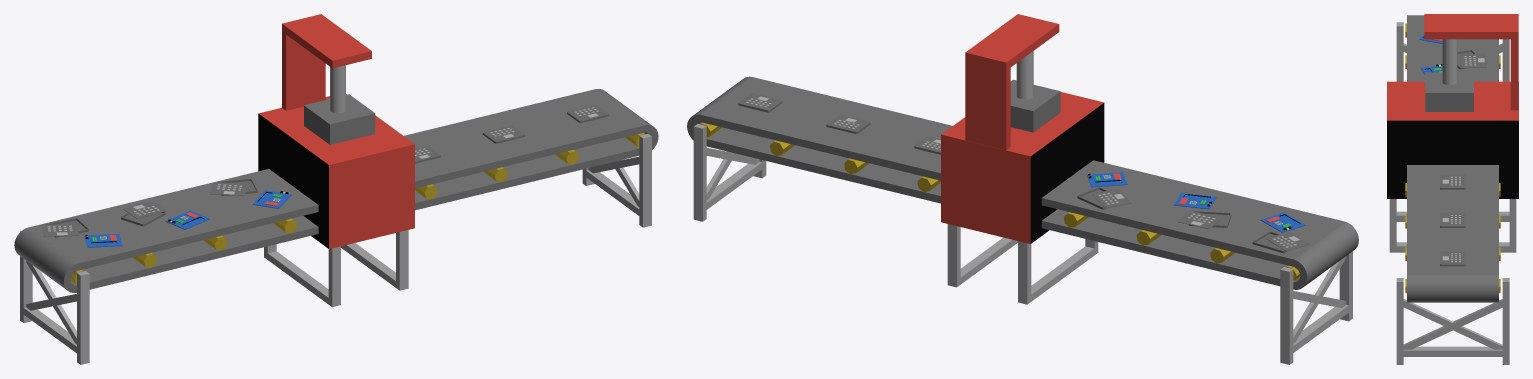
File: mechanic2.glb
3 renders of one model, left to right at view 1: azimuth 30°, elevation 25°; view 2: azimuth 150°, elevation 25°; view 3: azimuth 270°, elevation 25°, orthographic. The views are drawn at different scales.
Visible parts, largest first — view 1: belt_start, machine, Cube, machine.002, foot3, foot3.001, Cube.002, foot3.002, foot3.003, foot2.002, foot2.005, keyboard2 (+3 smaller); view 2: belt_start, machine, Cube, machine.002, foot3, foot3.001, Cube.002, foot3.002, foot2.006, foot3.003, foot2.003, keyboard1 (+5 smaller); view 3: belt_start, machine.001, foot3.001, machine, Cube, Cube.002, foot3, Cylindre, keyboard2, foot2.006, foot2.005, final_keyboard3 (+5 smaller).
Part boxes in pixels (x1,y1,x2,y2): belt_start: (14,89,658,292); machine: (258,94,414,249); Cube: (282,14,371,110); machine.002: (258,113,328,248); foot3: (20,231,89,364); foot3.001: (582,134,651,227); Cube.002: (304,94,375,144); foot3.002: (267,251,328,304); foot3.003: (341,243,395,287); foot2.002: (328,246,340,306); foot2.005: (396,230,408,290); keyboard2: (121,201,166,226); belt_start: (687,76,1358,289); machine: (941,92,1103,243); Cube: (965,14,1059,150); machine.002: (1030,103,1104,243); foot3: (1280,225,1352,364); foot3.001: (693,123,766,221); Cube.002: (1010,79,1060,132); foot3.002: (1031,246,1094,301); foot2.006: (947,224,960,287); foot3.003: (960,237,1017,284); foot2.003: (1018,241,1031,304); keyboard1: (1252,231,1309,253); belt_start: (1405,15,1500,302); machine.001: (1387,120,1518,198); foot3.001: (1396,278,1509,364); machine: (1387,81,1518,120); Cube: (1424,14,1518,110); Cube.002: (1425,72,1473,111); foot3: (1396,22,1509,81); Cylindre: (1442,39,1457,84); keyboard2: (1457,49,1486,69); foot2.006: (1509,199,1516,252); foot2.005: (1389,199,1396,252); final_keyboard3: (1440,174,1465,189).
Bounding box in the file's own units: 8.46 × 3.1 × 1.74.
